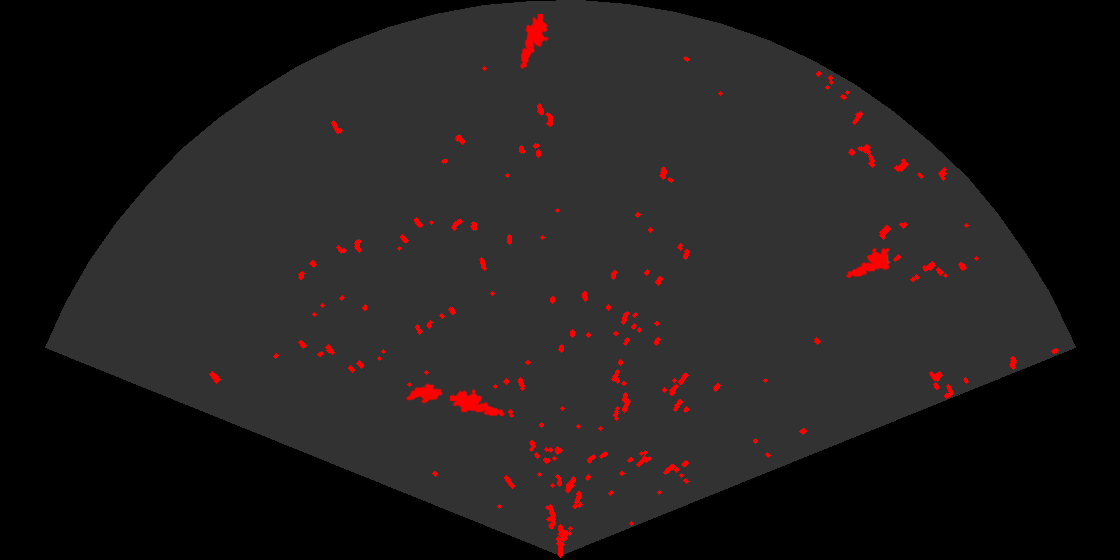AUV: (404, 382, 445, 405)
frogman: (519, 14, 551, 69), (450, 387, 506, 418), (844, 246, 893, 279)
